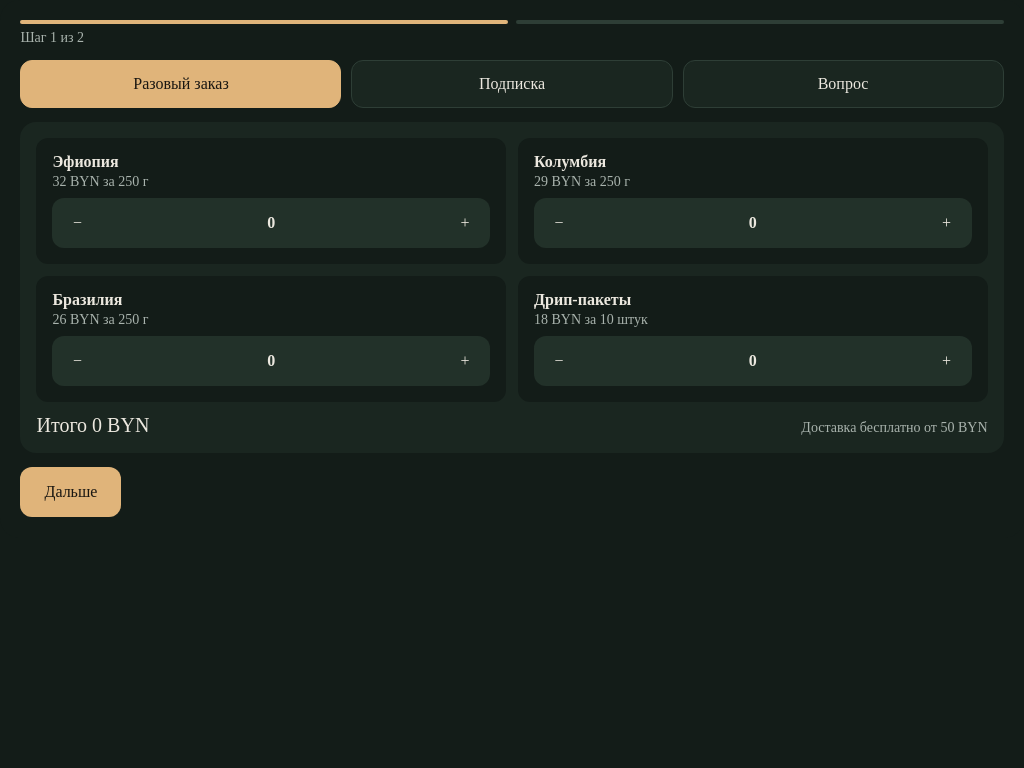
Test case: шаг 1 › не пускает дальше без пачки и убирает ошибку, когда пачка есть
Click the button "Дальше". click: (71, 492)
box: [20,468,121,518]
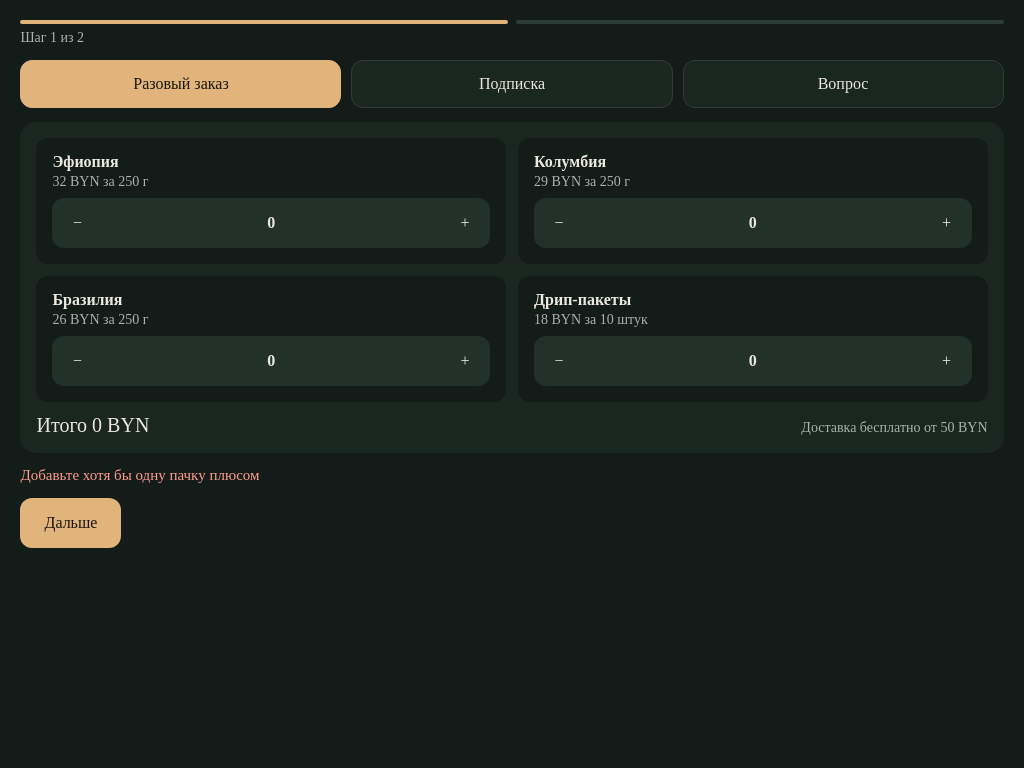
Expected: the text "Шаг 1 из 2" is shown, [20,30,84,46]
Now the message reads "Добавьте хотя бы одну пачку плюсом", box [20,468,260,484]
Click the button named "Добавить Эфиопия Иргачеффе". click: (465, 224)
box: [443,202,487,246]
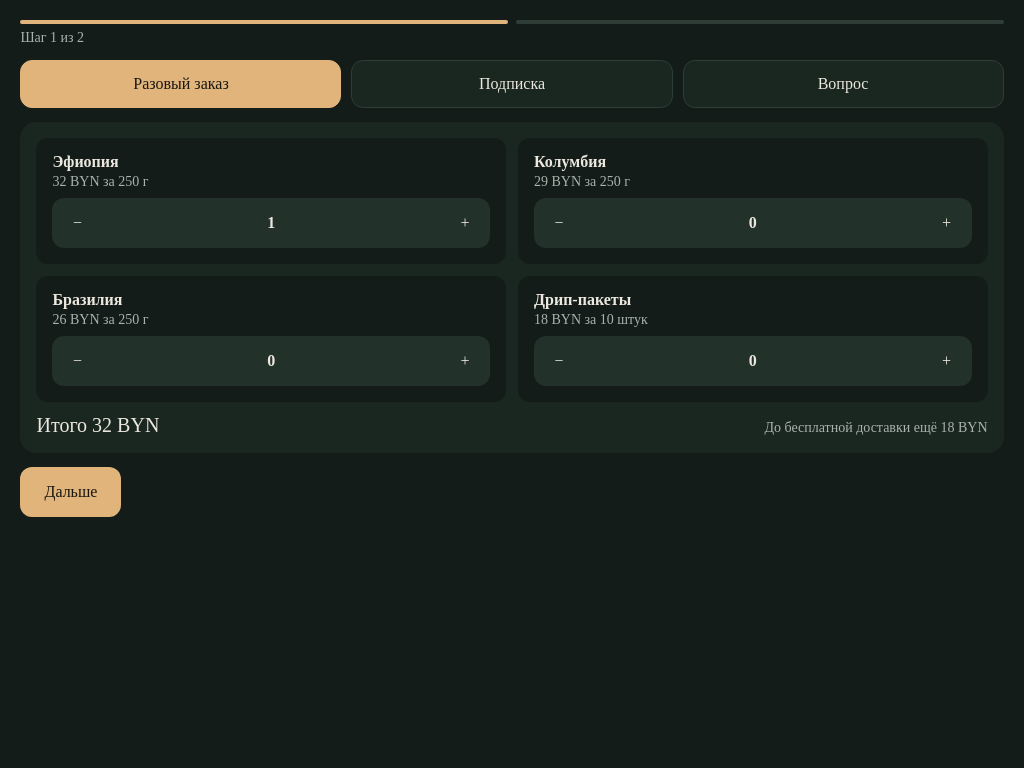
Now the message "Добавьте хотя бы одну пачку плюсом" is gone
Click the button "Дальше". click: (71, 492)
box: [20,468,121,518]
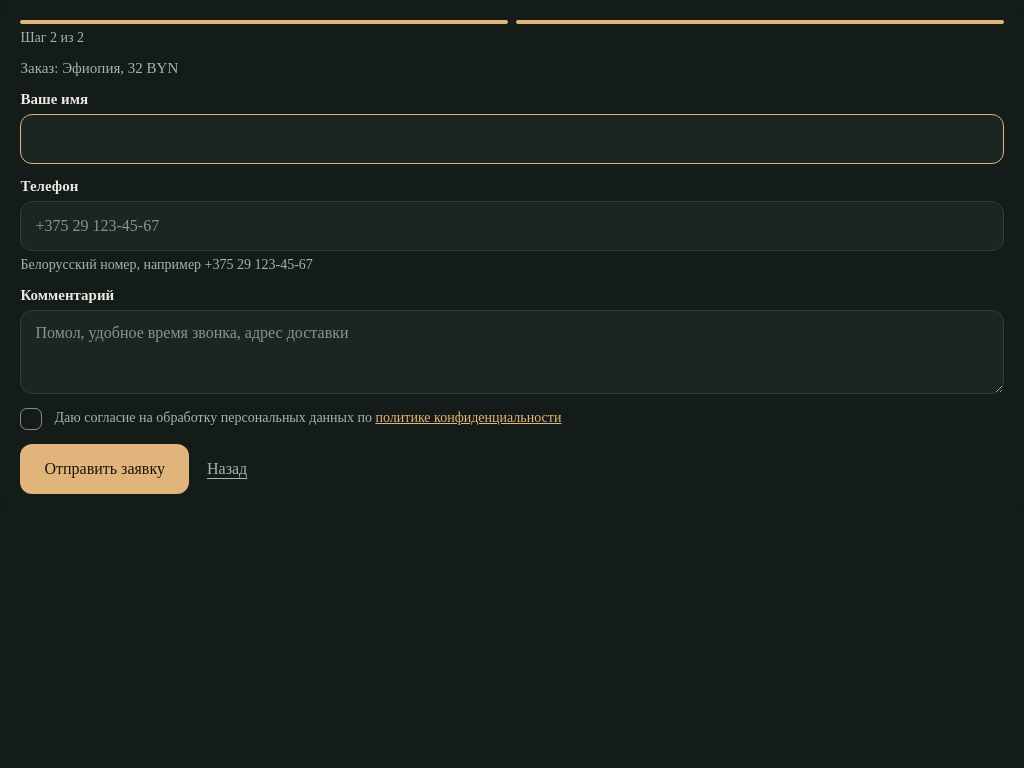
Now the text "Шаг 2 из 2" is shown, box [20,30,84,46]
Now the text "Заказ: Эфиопия, 32 BYN" is shown, box [20,60,178,76]
